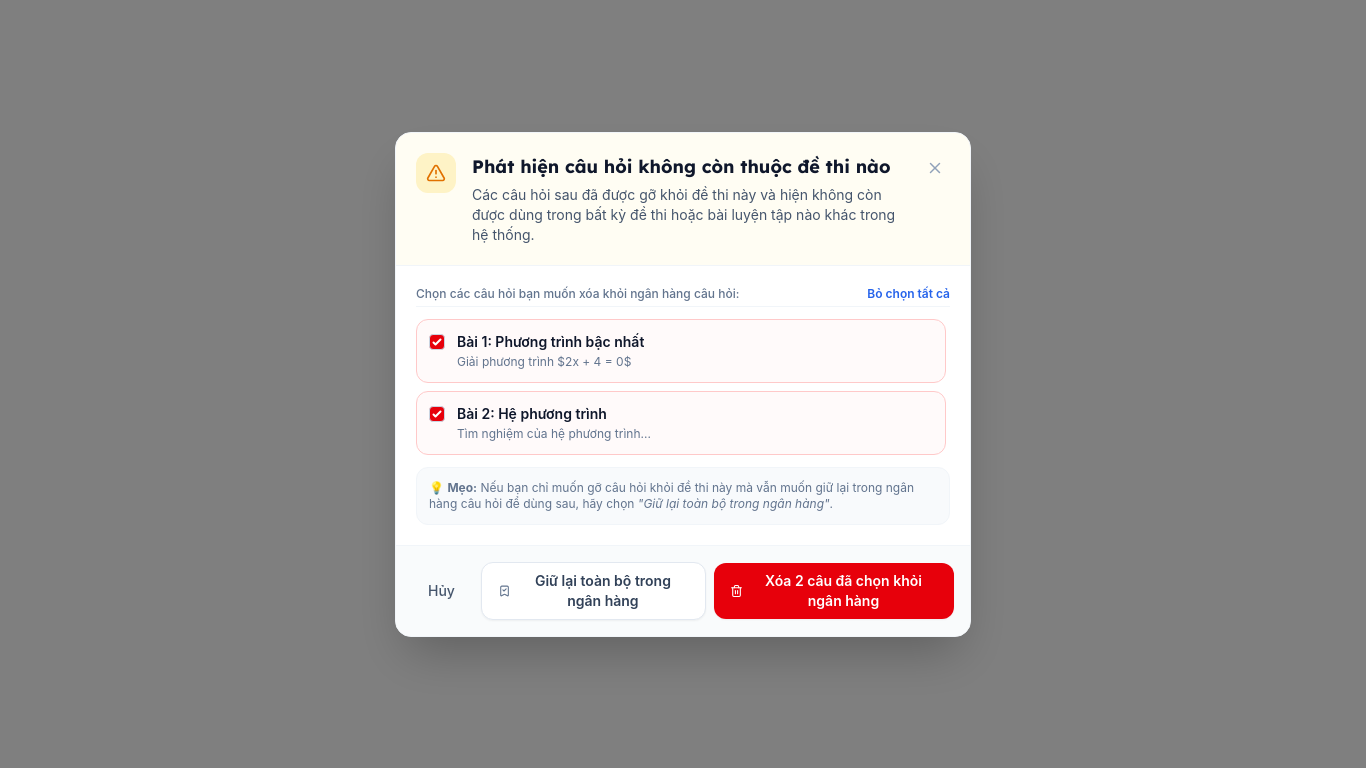
it: ConfirmDeleteOrphanModal › allows unchecking a question and updates the delete count
Note: Uncheck first question (checkbox 1 or item checkbox)
Step 1. Click the checkbox labelled "Bài 1: Phương trình bậc nhất Giải phương trình $2x + 4 = 0$" → (437, 342), box [429,334,445,350]
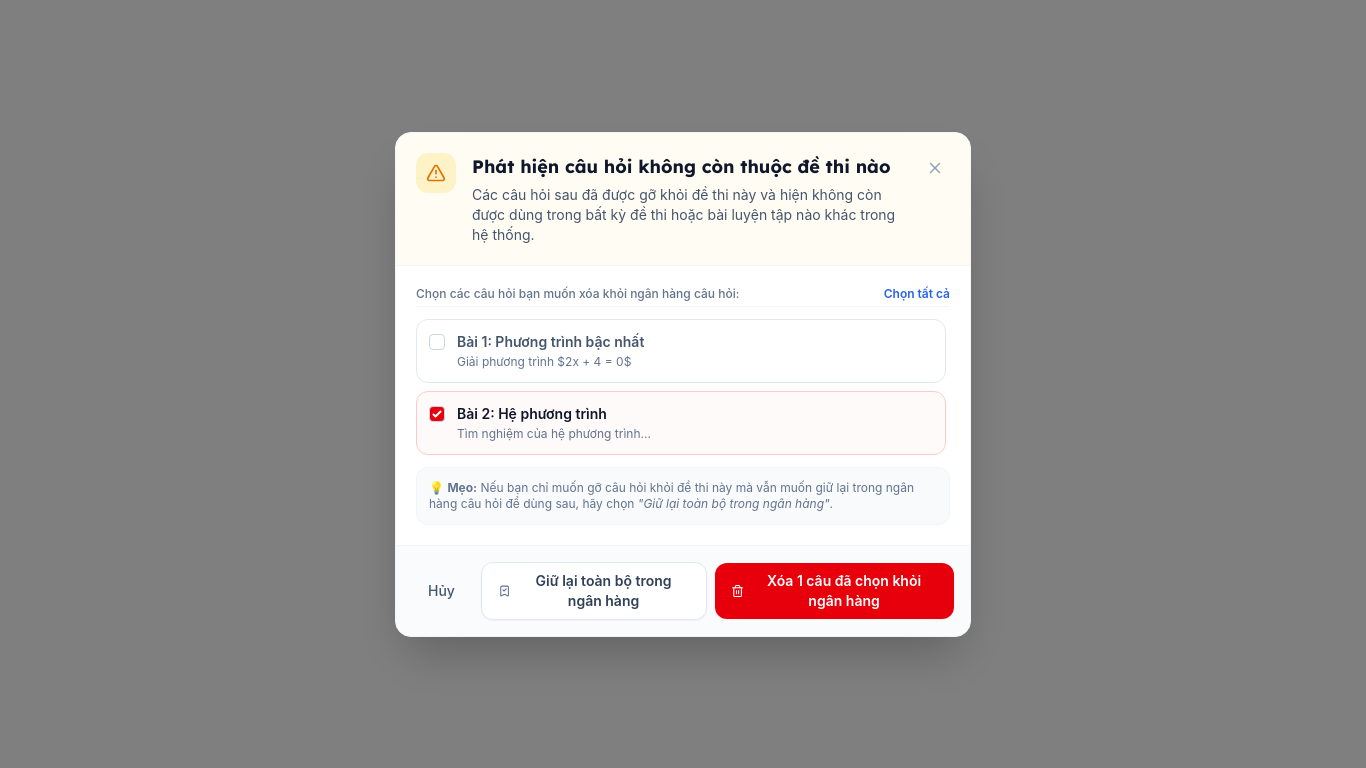
Now the checkbox labelled "Bài 1: Phương trình bậc nhất Giải phương trình $2x + 4 = 0$" is not checked, box [429,334,445,350]
Now the button "Xóa 1 câu đã chọn khỏi ngân hàng" is shown, box [715,562,954,618]
